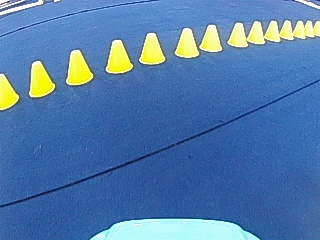cone: (28, 59, 55, 98), (65, 49, 94, 84), (105, 39, 133, 73), (139, 31, 166, 64), (174, 27, 198, 58), (199, 23, 222, 52), (0, 73, 18, 110), (228, 22, 247, 47), (247, 20, 264, 44), (264, 20, 280, 42), (279, 20, 293, 39), (293, 20, 305, 38), (304, 21, 314, 37), (313, 21, 320, 36)
